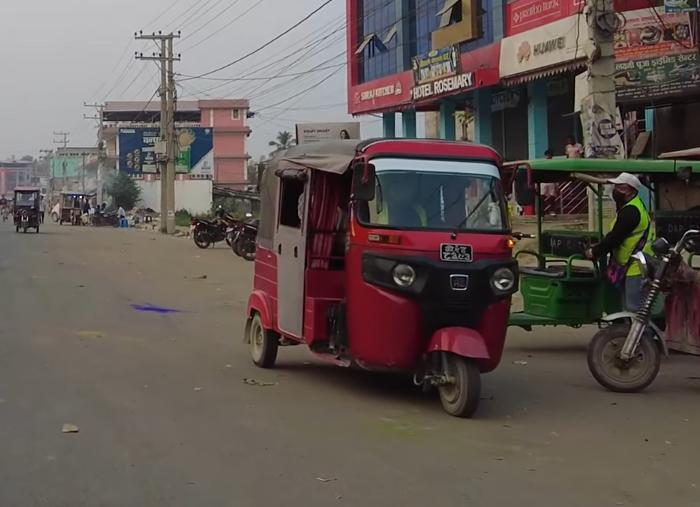auto_rickshaw: (238, 135, 518, 416)
